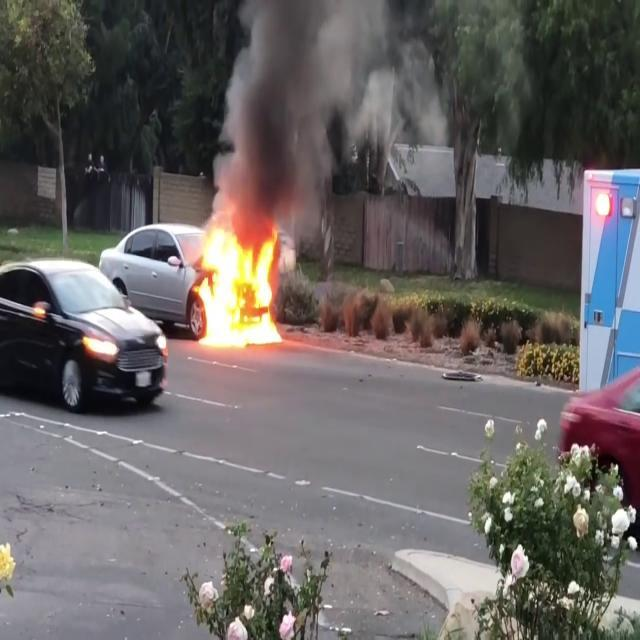Fire: (192, 215, 284, 348)
Smoke: (210, 1, 450, 219)
